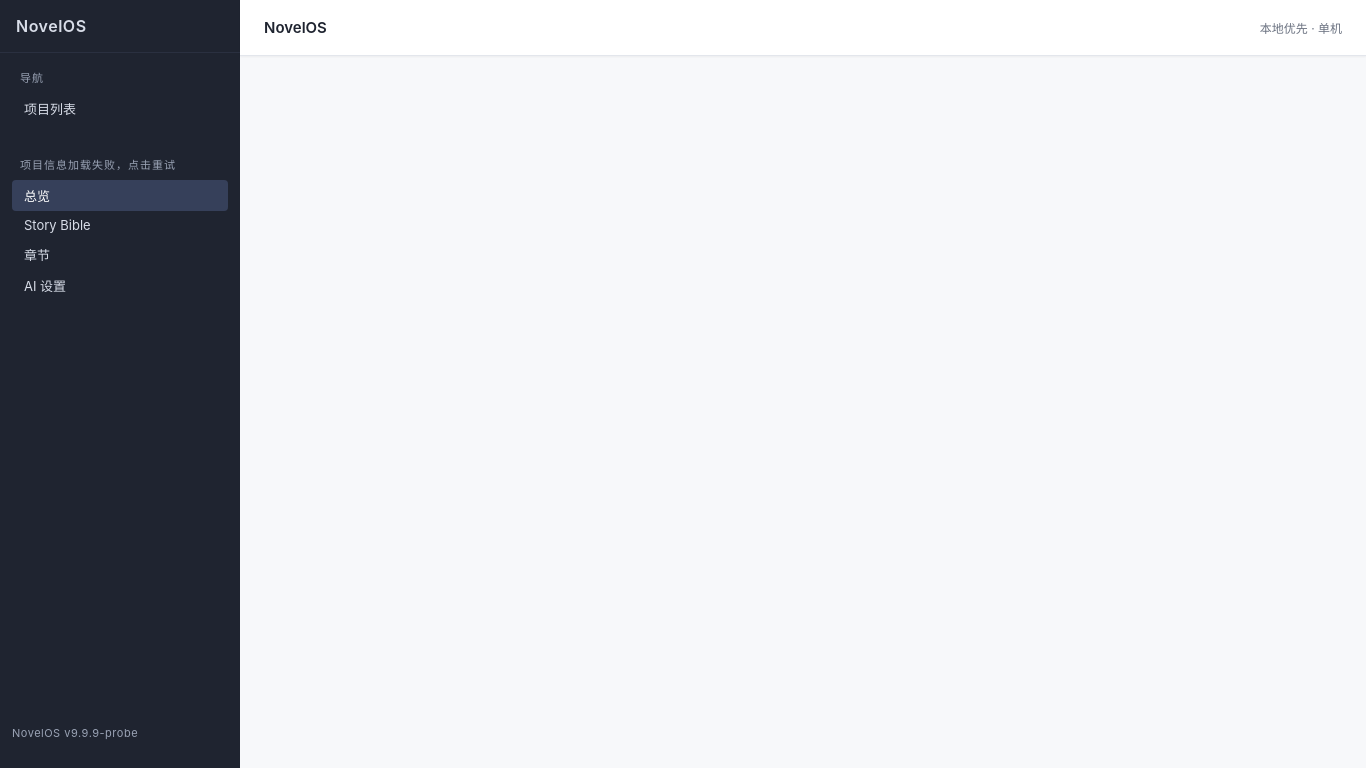
Test: Layout 外壳 › 项目信息加载失败时给出重试入口，点击后恢复
Click the button with test id "sidebar-project-retry": coordinates (98, 164) [20,156,176,172]
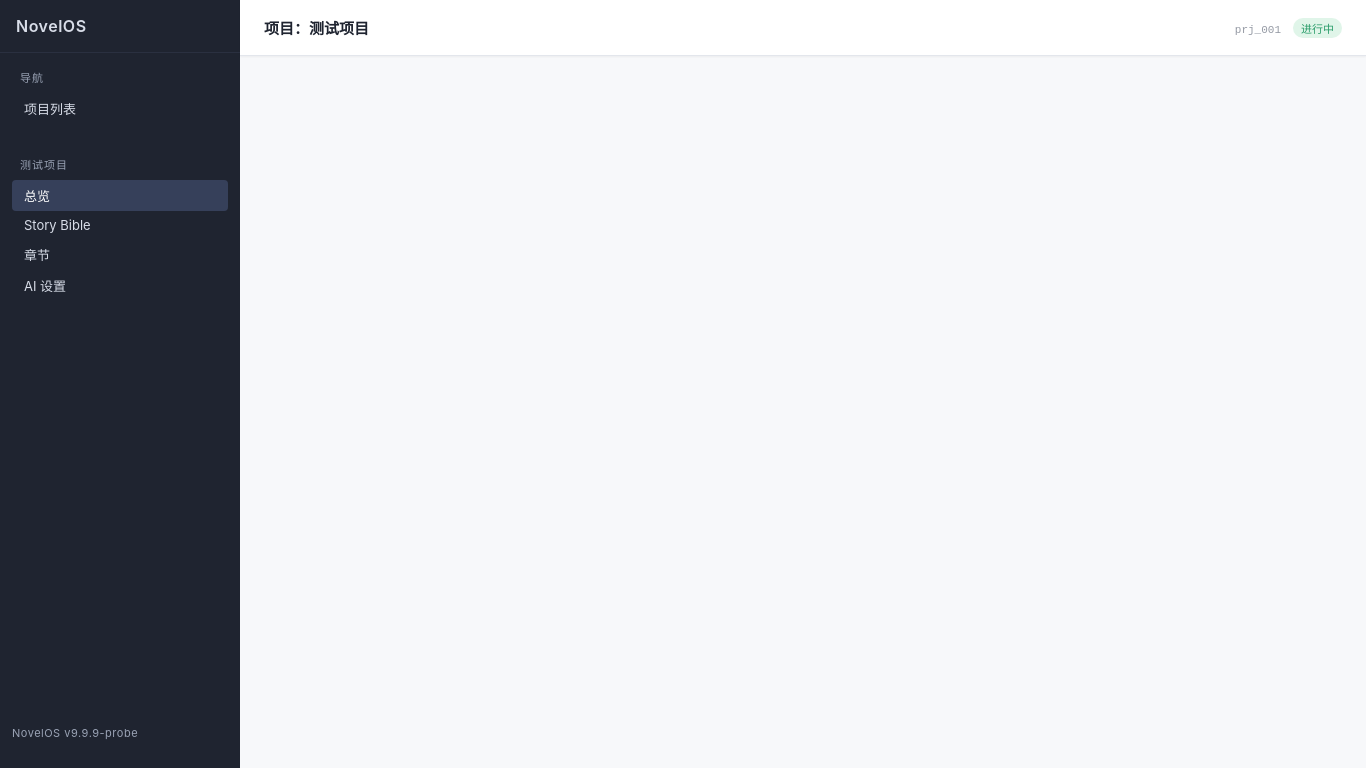
Now the text "测试项目" is shown, box [20,158,68,172]
